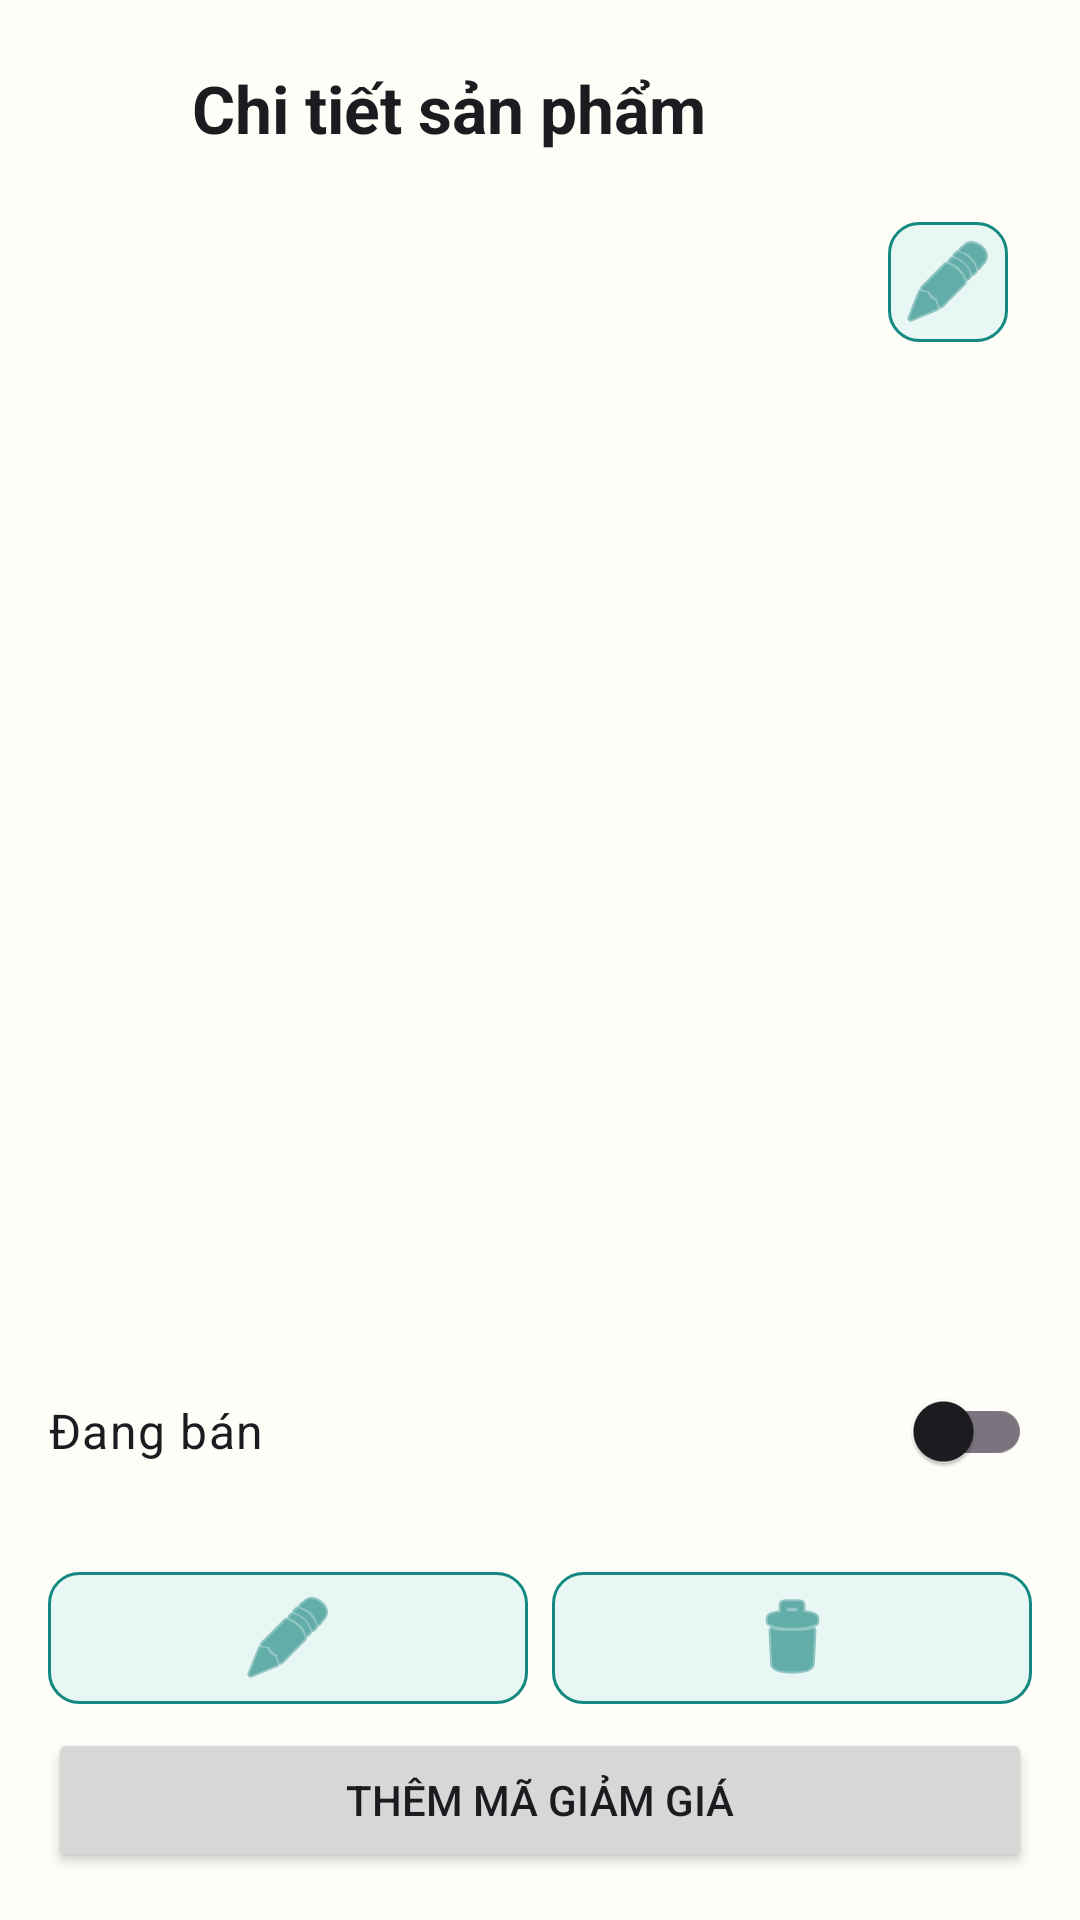

Icons on this 1080px x 1920px Android screen, each with the point to tap as point (x, y):
Sửa ảnh sản phẩm: point (948, 282)
